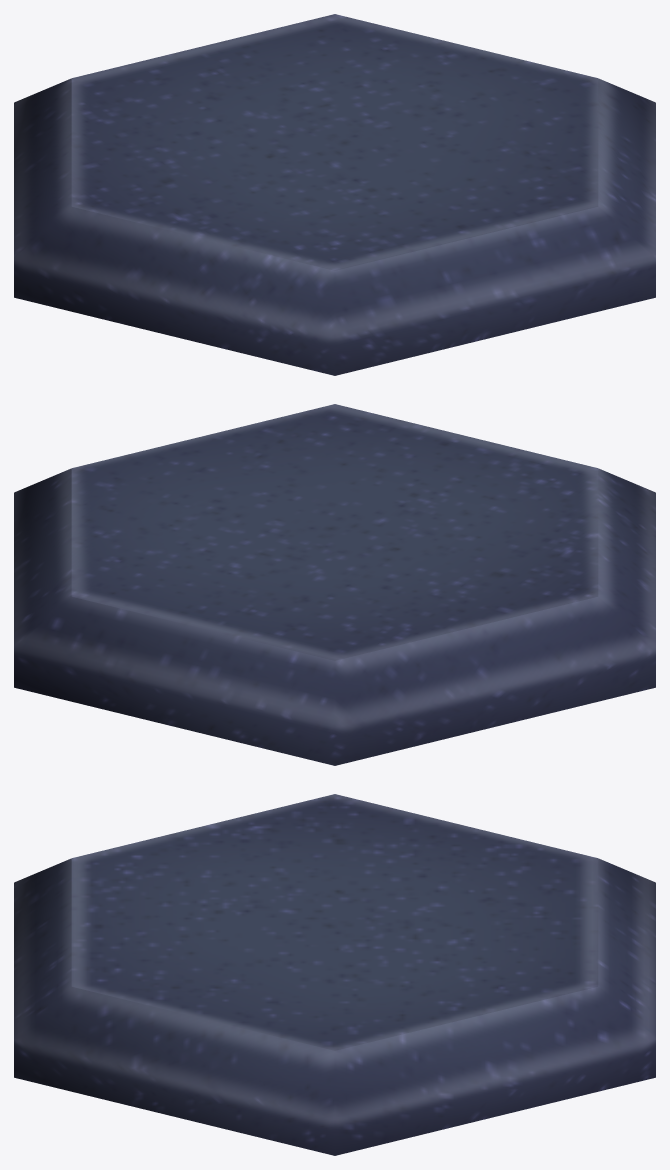
3 views of the same model, one above another, from view 1: azimuth 30°, elevation 25°; view 2: azimuth 150°, elevation 25°; view 3: azimuth 270°, elevation 25° (orthographic).
Parts seen in each view (by area): view 1: Cylinder016; view 2: Cylinder016; view 3: Cylinder016.
Boxes of the visible parts, bbox=[...] form: Cylinder016: bbox=[14, 14, 655, 375]; Cylinder016: bbox=[14, 404, 655, 765]; Cylinder016: bbox=[14, 794, 655, 1155].
Size of the model in its own units: 130 by 14.92 by 113.
Materials: 1 (1 with a texture image).
